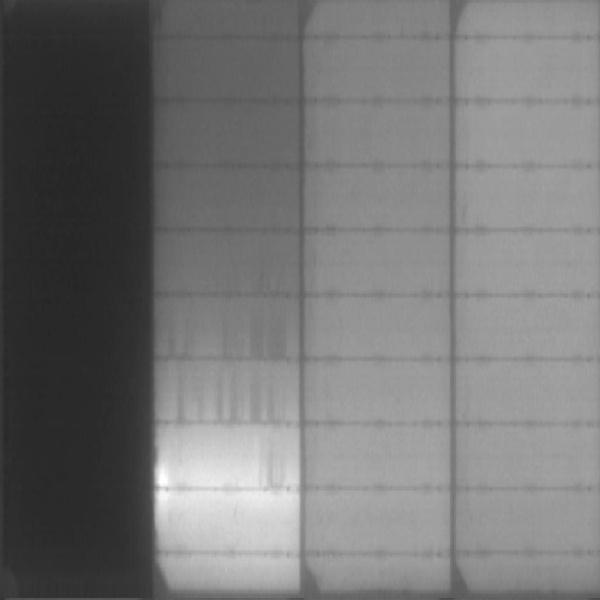hot_spot: (157, 468, 168, 484)
no_electricity: (1, 1, 154, 596)
